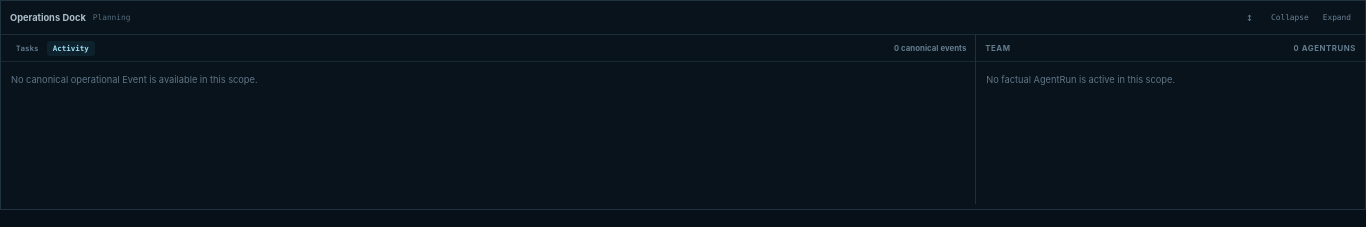
BottomOperationsDock planning controls › shows canonical project tasks in the Tasks tab
Step 1. Click the tab "Tasks" → x=27, y=48, box [10,40,45,56]
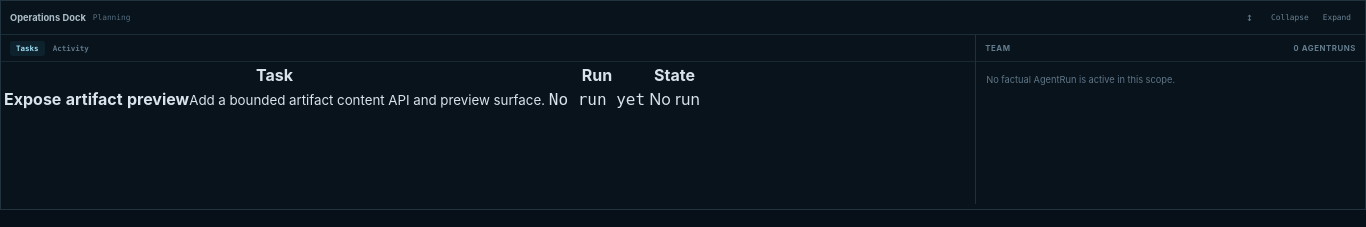
Now the text "Expose artifact preview" is shown, box [4,89,189,109]
Now the text "Add a bounded artifact content API and preview surface." is shown, box [189,92,545,108]
Now the text "No run yet" is shown, box [549,90,645,109]
